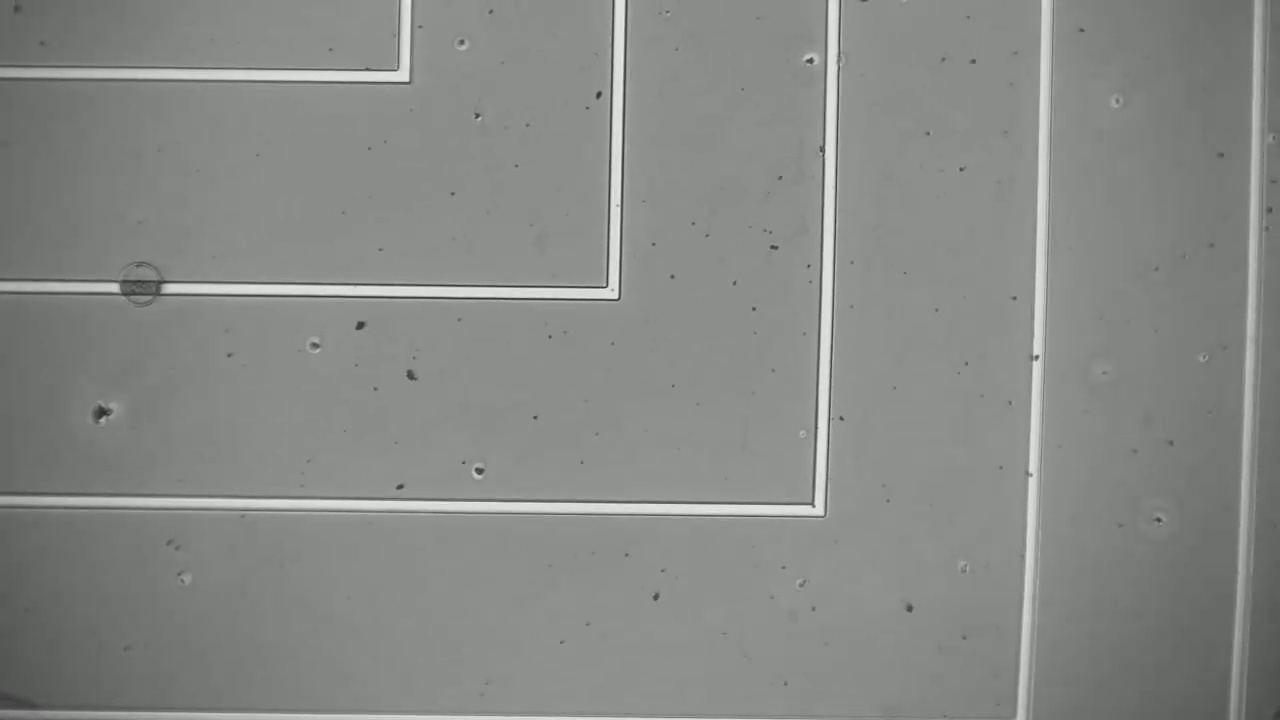gray_line: (107, 272, 175, 304)
